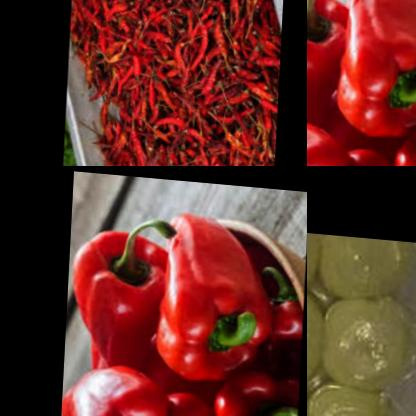bell pepper: (151, 200, 265, 382), (69, 227, 171, 366), (330, 0, 416, 138), (58, 354, 225, 416), (253, 270, 305, 376), (307, 111, 405, 166), (307, 0, 350, 122), (208, 369, 301, 416)
hot pepper: (62, 0, 290, 166)
onion: (307, 222, 416, 416)
